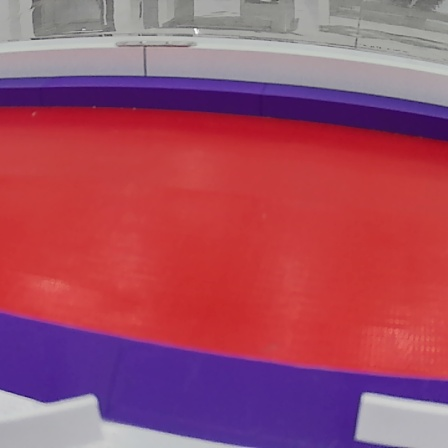red_aim: (2, 78, 448, 448)
